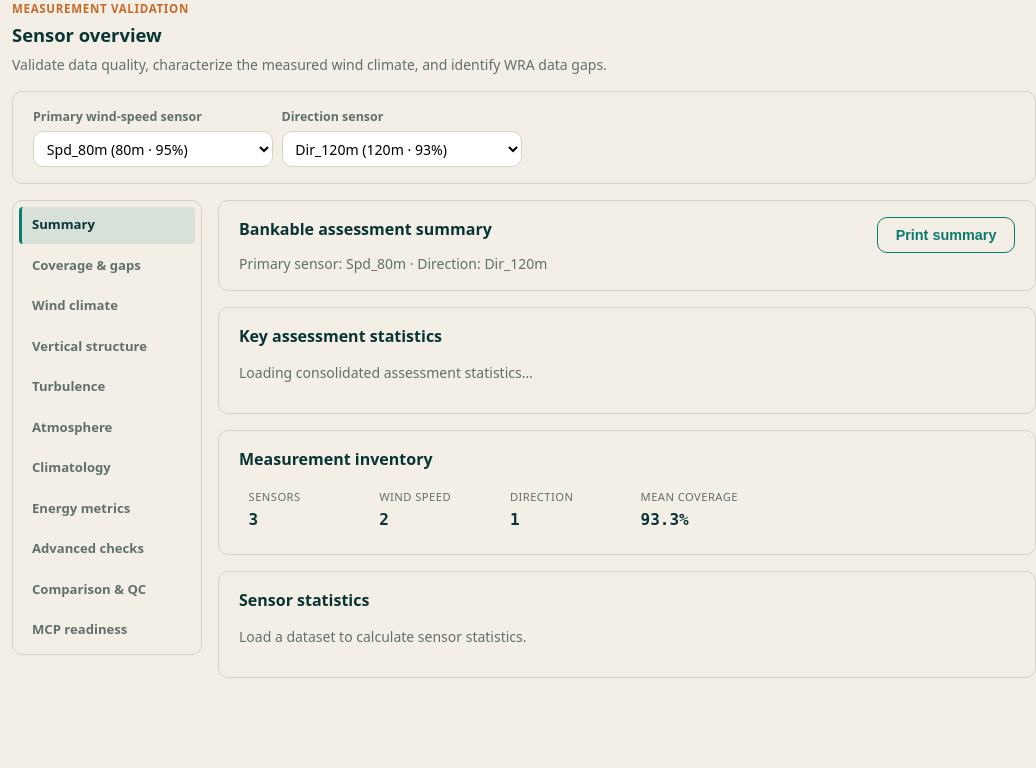
Test: Sensor Overview › renders the wind-climate distribution and directional analyses
The image size is (1036, 768).
Click the button "Wind climate".
click(107, 306)  # box left=19, top=288, right=195, bottom=325
(page scrolled)
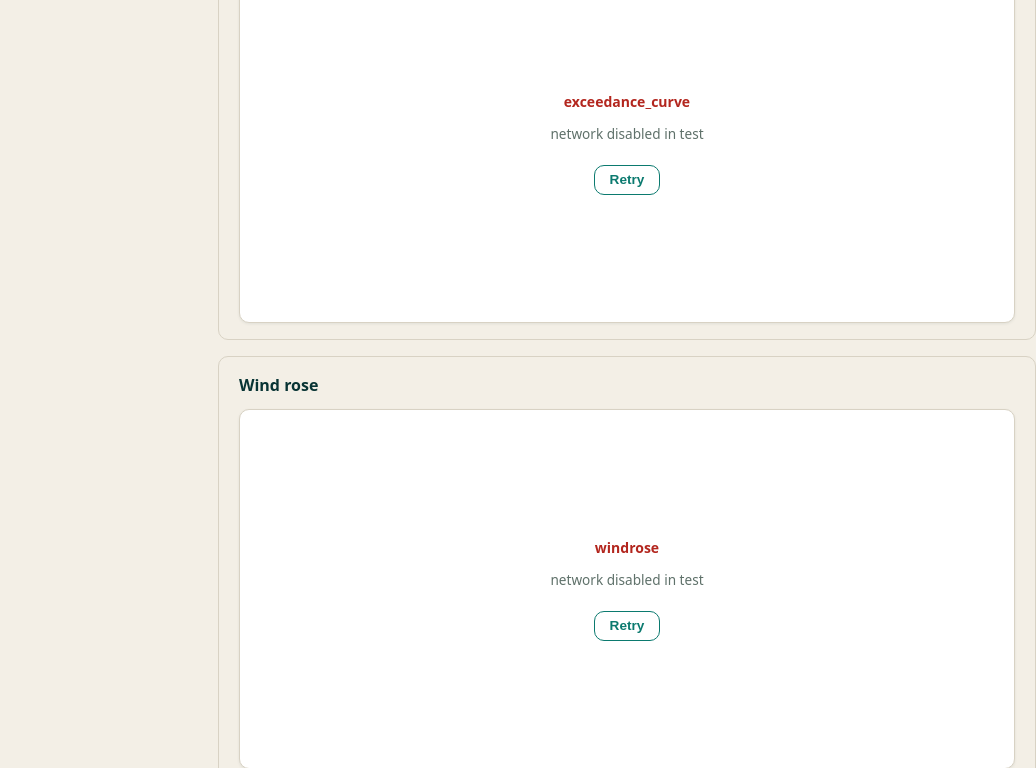
Result: the heading "Wind rose" is shown at left=239, top=374, right=318, bottom=396
